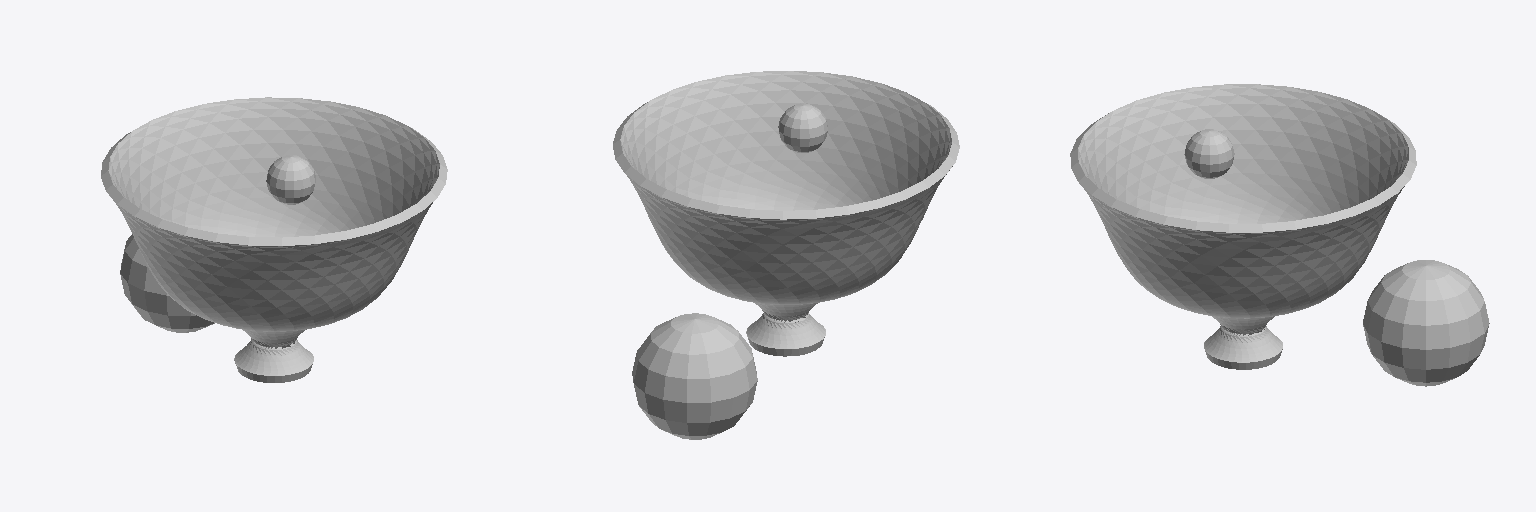
File: pot.obj
The picture shows the model from 3 angles: view 1: azimuth 30°, elevation 25°; view 2: azimuth 150°, elevation 25°; view 3: azimuth 270°, elevation 25°; orthographic projection.
Parts seen in each view (by area): view 1: Lathe, Sphere, Sphere.1; view 2: Lathe, Sphere, Sphere.1; view 3: Lathe, Sphere, Sphere.1.
Boxes of the visible parts, box(x1,y1,x2,y2) form: Lathe: box(101, 97, 447, 382); Sphere: box(120, 234, 214, 332); Sphere.1: box(266, 155, 315, 204); Lathe: box(613, 71, 959, 356); Sphere: box(632, 313, 757, 439); Sphere.1: box(778, 103, 827, 152); Lathe: box(1070, 84, 1416, 369); Sphere: box(1363, 260, 1489, 386); Sphere.1: box(1184, 129, 1234, 178).
Bounding box in the file's own units: 0.5593 × 0.4444 × 0.6771.